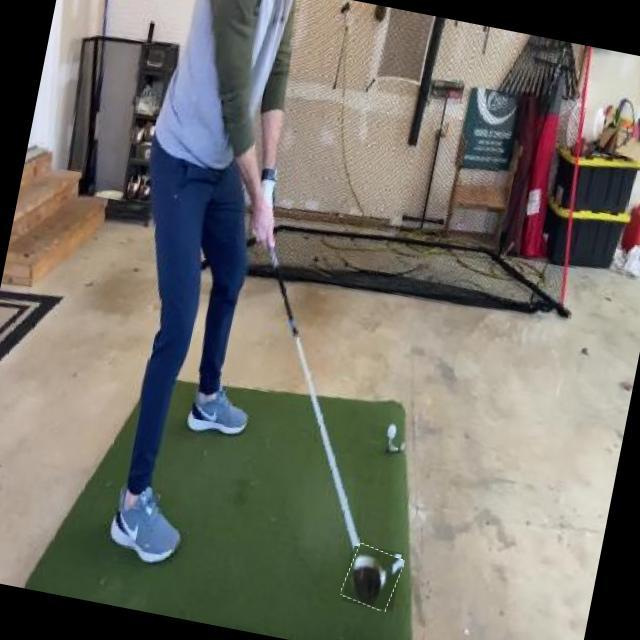club head: (342, 544, 404, 612)
